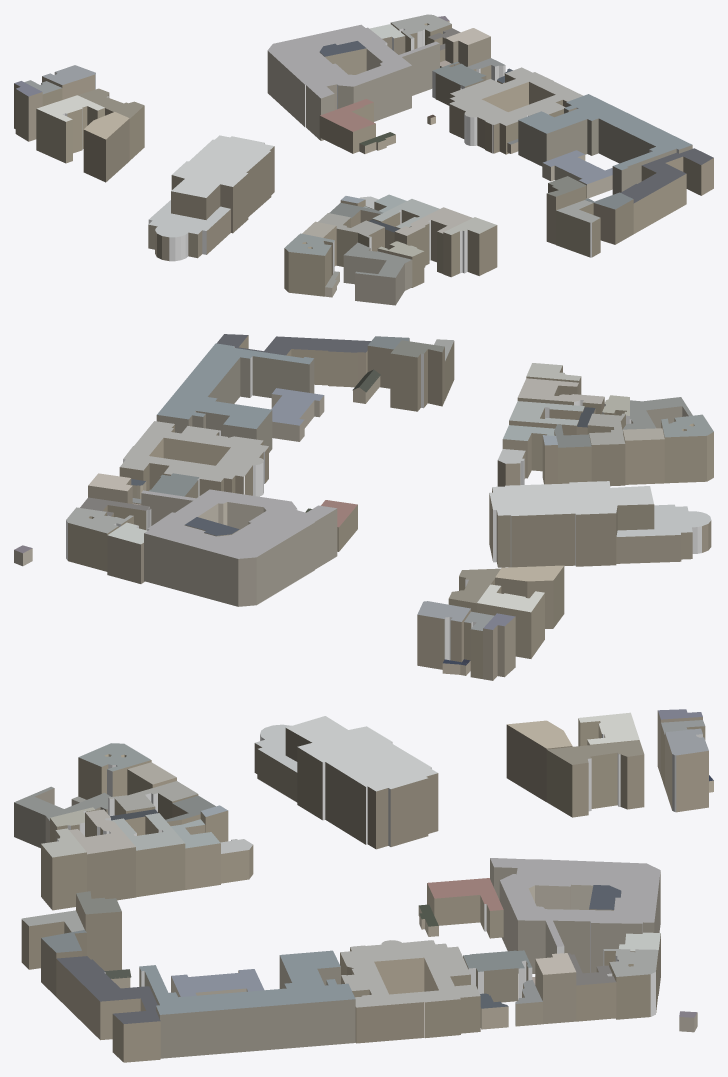
3 views of the same model, one above another, from view 1: azimuth 30°, elevation 25°; view 2: azimuth 150°, elevation 25°; view 3: azimuth 270°, elevation 25° (orthographic). The views are drawn at different scales.
Parts seen in each view (by area): view 1: tuile; view 2: tuile; view 3: tuile.
Part boxes in pixels (bbox=[...]): tuile: bbox=[14, 14, 713, 305]; tuile: bbox=[14, 334, 713, 680]; tuile: bbox=[14, 709, 713, 1062].
Bounding box in the file's own units: 273 × 28.56 × 268.
